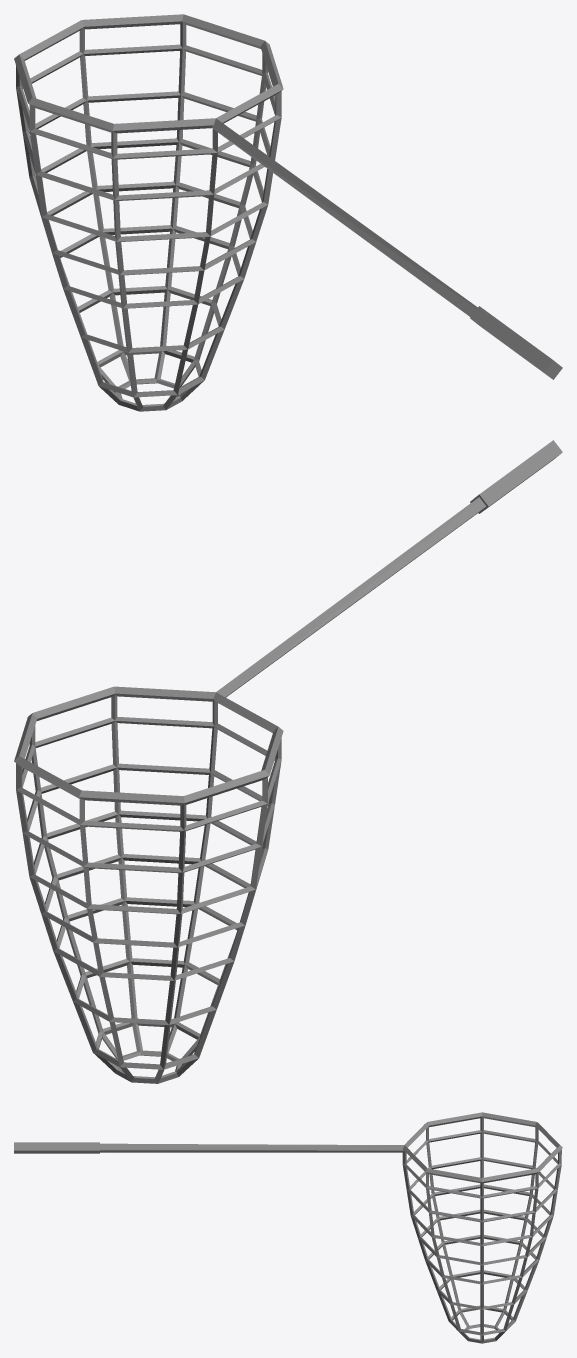
The model's file is net.obj.
The picture shows the model from 3 angles, top to bottom: view 1: azimuth 30°, elevation 25°; view 2: azimuth 150°, elevation 25°; view 3: azimuth 270°, elevation 25°; orthographic projection. The views are drawn at different scales.
Parts seen in each view (by area): view 1: filet; view 2: filet; view 3: filet.
Boxes of the visible parts, left/top/right/bottom form: filet: left=14, top=14, right=562, bottom=411; filet: left=14, top=440, right=562, bottom=1083; filet: left=14, top=1112, right=562, bottom=1343.
Size of the model in its own units: 2.08 by 2.74 by 7.07.
